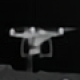plane: (8, 24, 78, 58)
